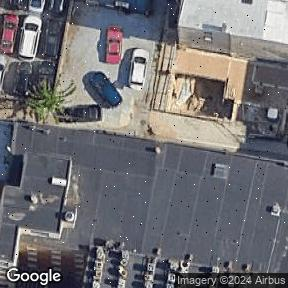vegetation: (21, 68, 82, 129)
